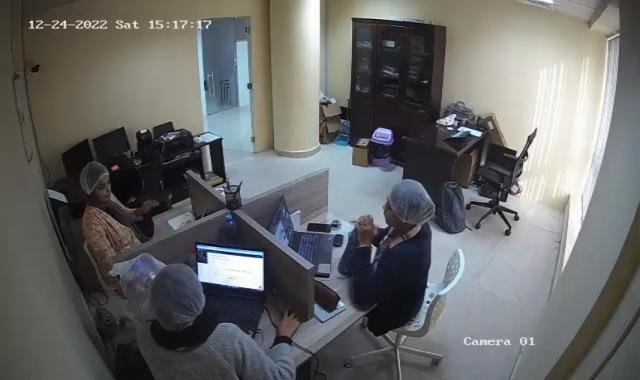hairnet: (145, 264, 203, 331), (378, 177, 434, 227), (78, 157, 114, 206)
